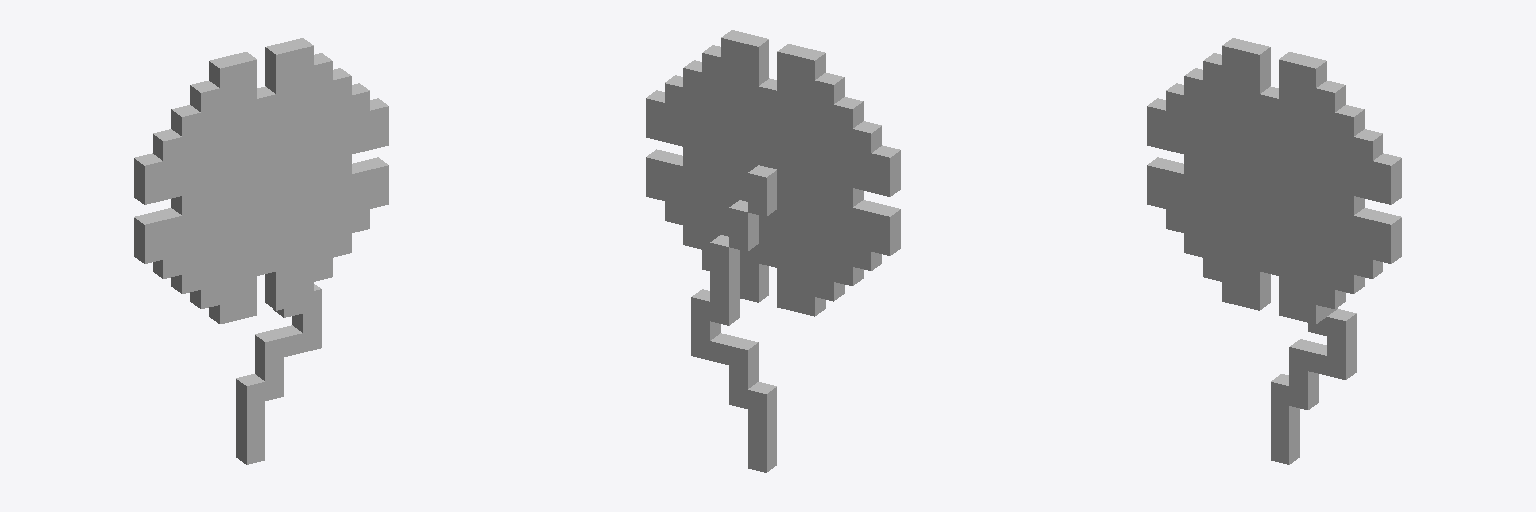
The model's file is pink Flower.obj.
The picture shows the model from 3 angles: view 1: azimuth 30°, elevation 25°; view 2: azimuth 150°, elevation 25°; view 3: azimuth 330°, elevation 25°; orthographic projection.
Visible parts, largest first — view 1: pink Flower; view 2: pink Flower; view 3: pink Flower.
Part boxes in pixels (x1,y1,x2,y2): pink Flower: (134, 38, 388, 464); pink Flower: (646, 30, 900, 472); pink Flower: (1147, 38, 1401, 464).
Size of the model in its own units: 13 by 21 by 2.